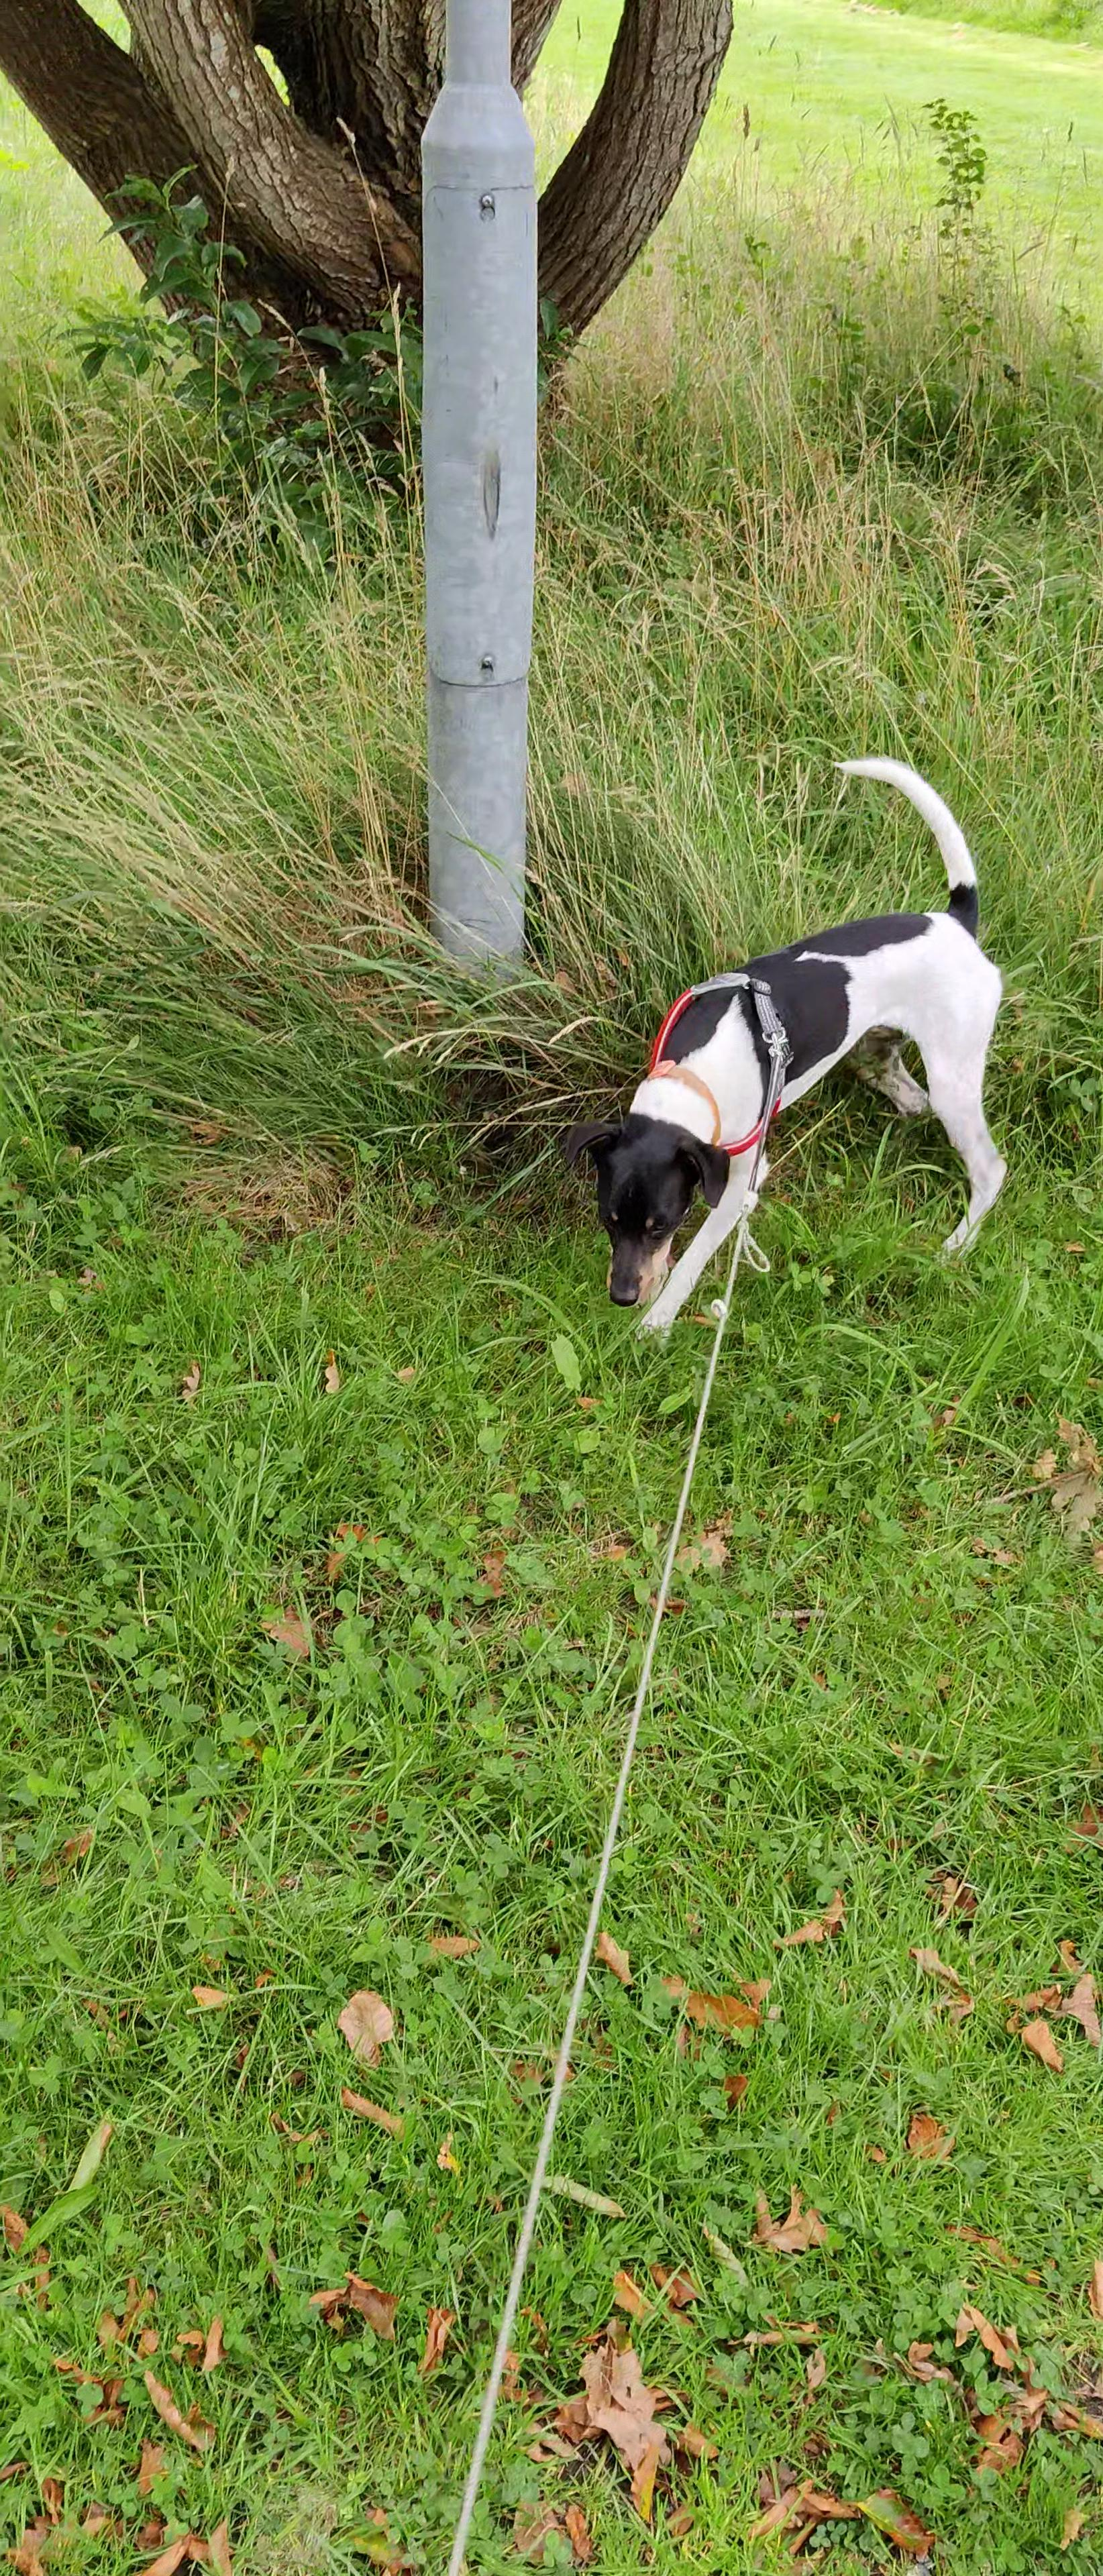Dog: (554, 756, 1016, 1331)
